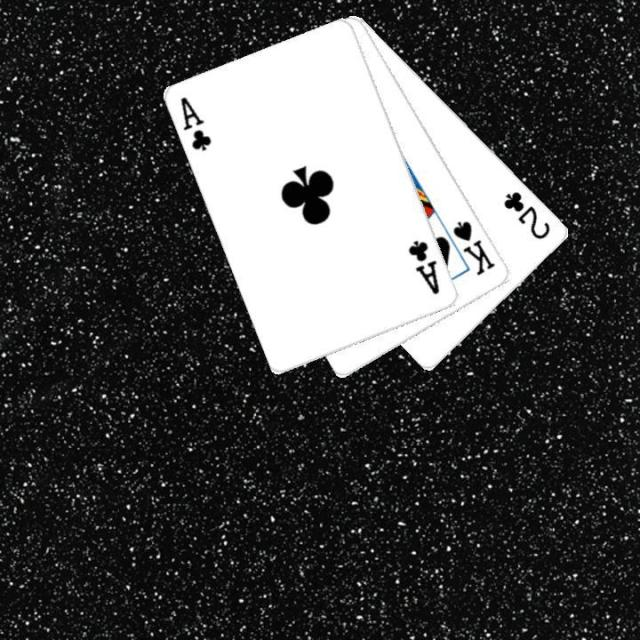2C: (499, 186, 553, 242)
AC: (404, 236, 442, 297), (177, 93, 214, 153)
KS: (449, 217, 498, 277)
